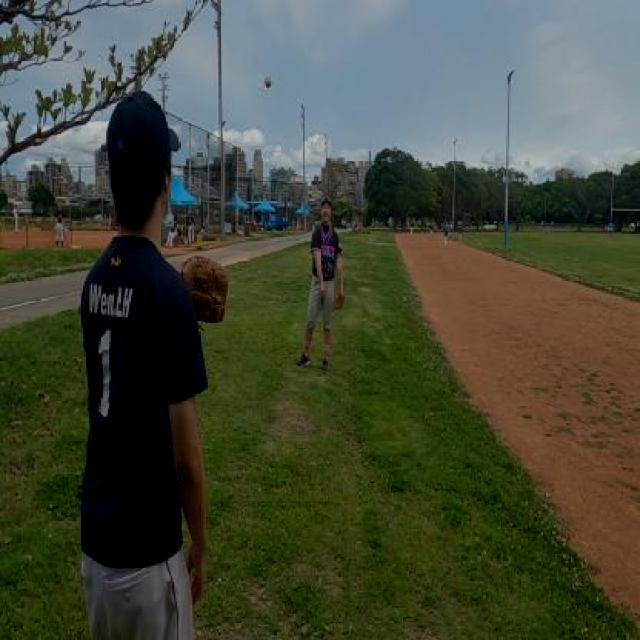ball: (264, 75, 272, 89)
